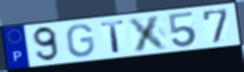5: (168, 10, 198, 48)
7: (201, 7, 230, 45)
9: (31, 26, 61, 63)
G: (66, 23, 97, 58)
T: (99, 19, 127, 55)
X: (126, 13, 171, 53)
